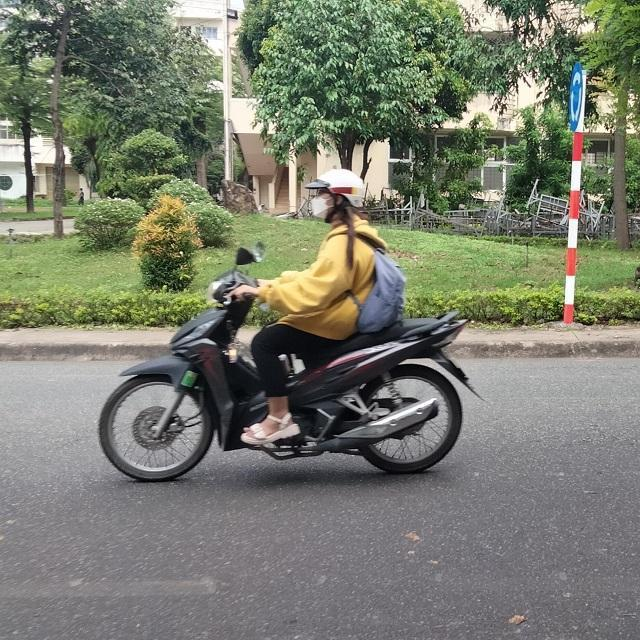Helmet: (306, 168, 366, 220)
